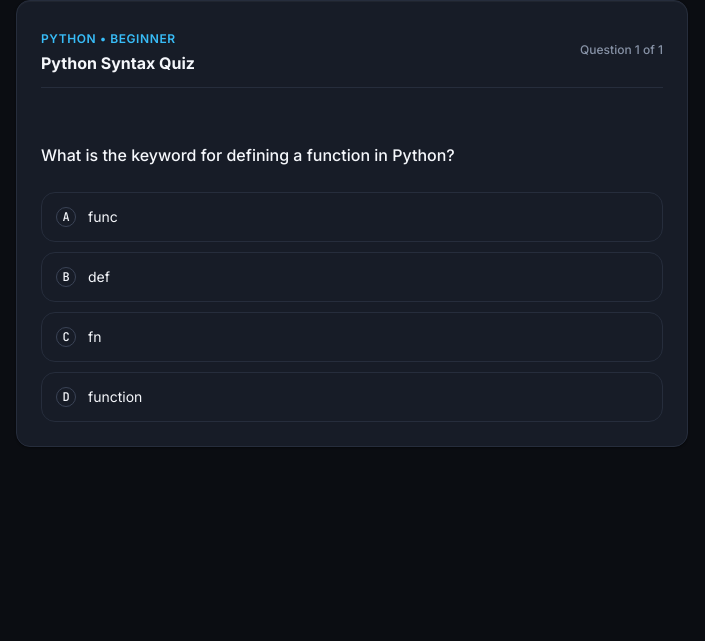
AI Practice Studio UI › runs an interactive AI quiz with scoring and immediate feedback
expect the text "What is the keyword for defining a function in Python?" is shown: met, box [41, 145, 455, 165]
Note: Click correct answer 'def'
Click the button "B def": [66, 277] box [41, 252, 663, 302]
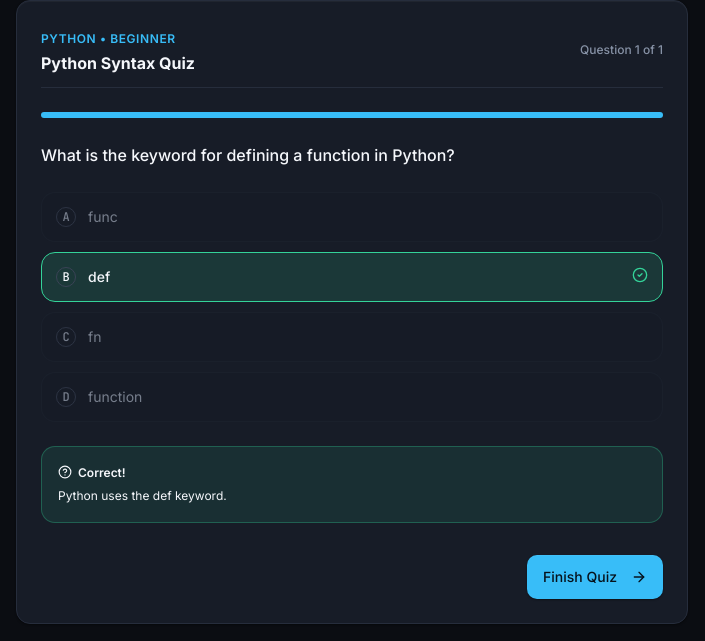
expect the text "Correct!" is shown: met, box [58, 465, 126, 480]
expect the text "Python uses the def keyword." is shown: met, box [58, 488, 227, 503]
Note: Click Finish Quiz
Click the button "Finish Quiz": [595, 577] box [527, 555, 663, 599]
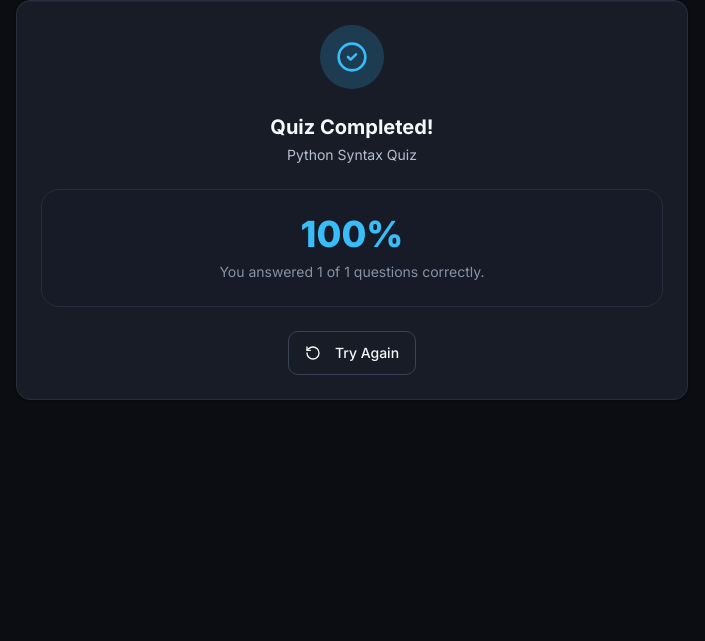
expect the heading "Quiz Completed!" is shown: met, box [270, 115, 434, 139]
expect the text "100%" is shown: met, box [301, 212, 403, 256]
